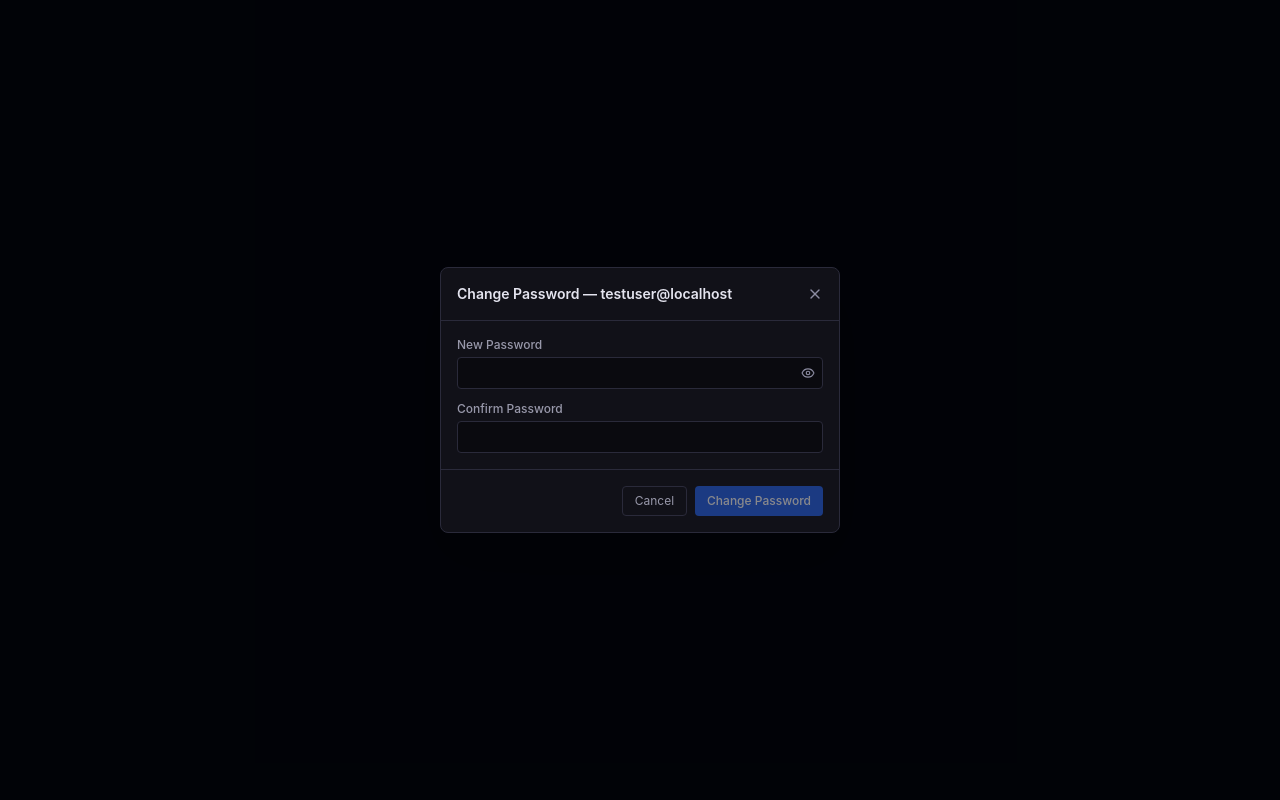
ChangePasswordDialog › shows error on failure
The image size is (1280, 800).
Type "newpass" into the password field below "New Password".
click(640, 373); type("newpass")  # box [457,357,823,389]
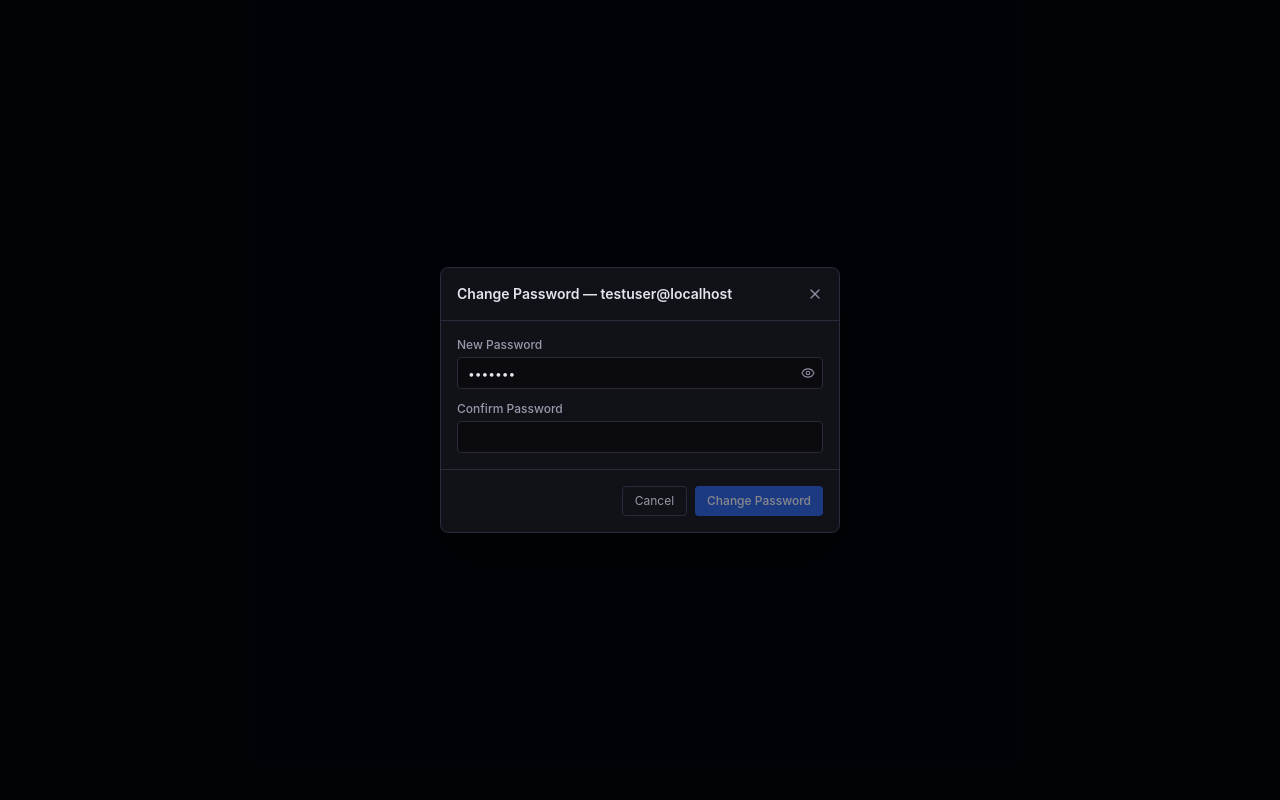
Type "newpass" into the password field below "Confirm Password".
click(640, 437); type("newpass")  # box [457,421,823,453]
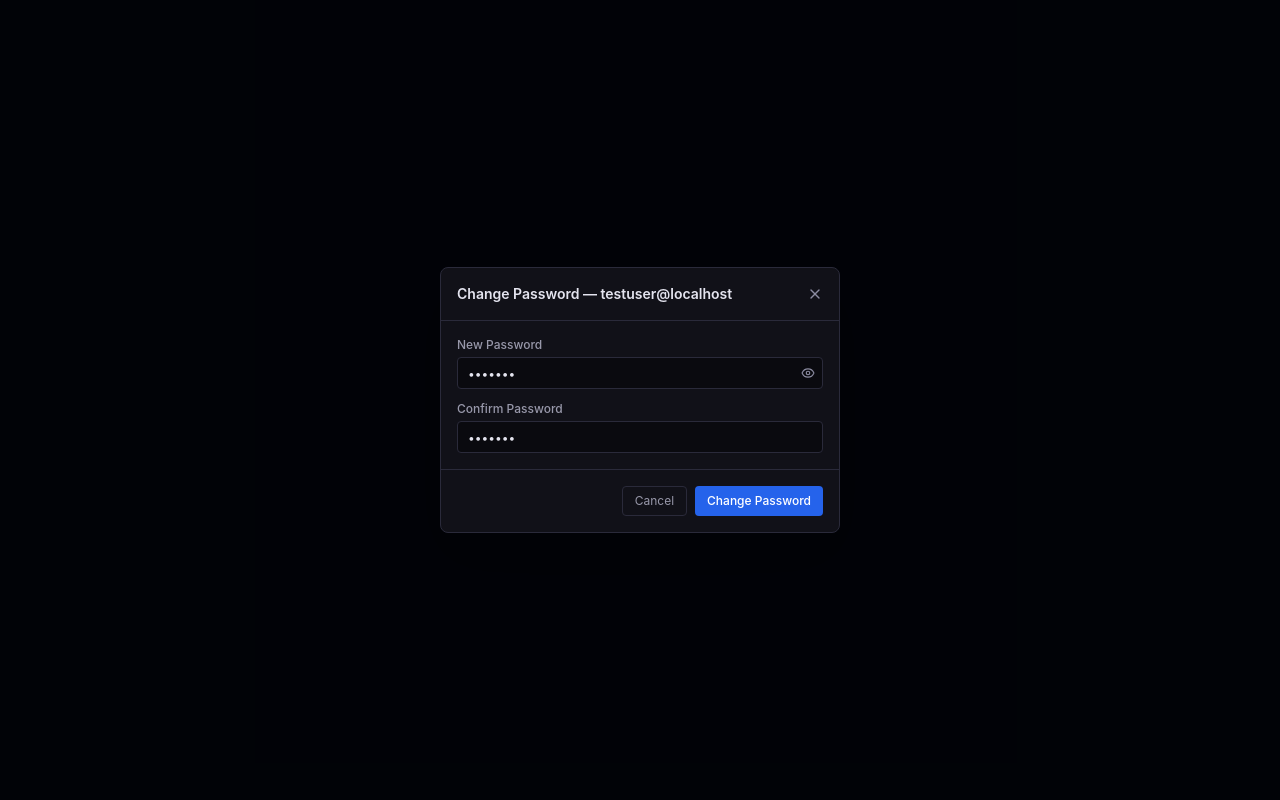
Click the button "Change Password".
click(759, 501)  # box [695,486,823,516]
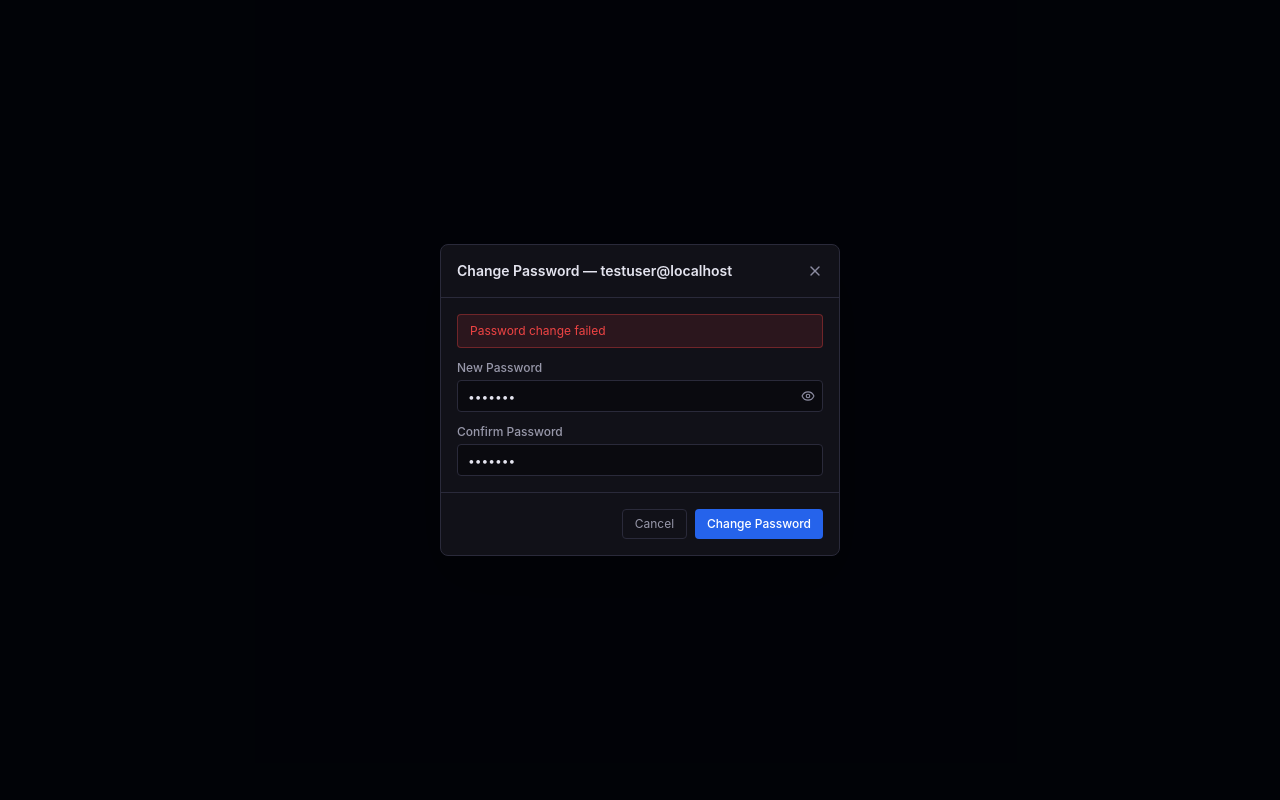
Result: the text "Password change failed" is shown at [457,314,823,348]
